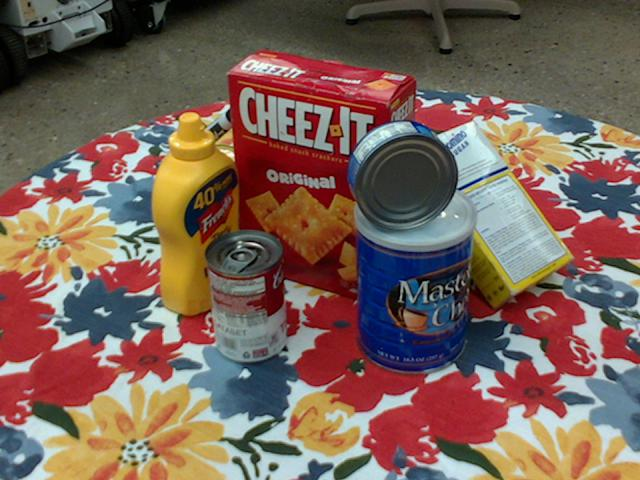cracker_box: (229, 50, 418, 302)
gelatin_box: (231, 142, 313, 207)
large_marker: (176, 97, 253, 165)
master_chef_can: (353, 182, 475, 377)
mug: (379, 137, 466, 239)
mustard_bottle: (151, 113, 243, 316)
potted_meat_can: (162, 144, 251, 257)
sugar_box: (395, 121, 575, 312)
tomato_soup_can: (203, 230, 286, 364)
tuna_fish_can: (349, 120, 460, 231)
